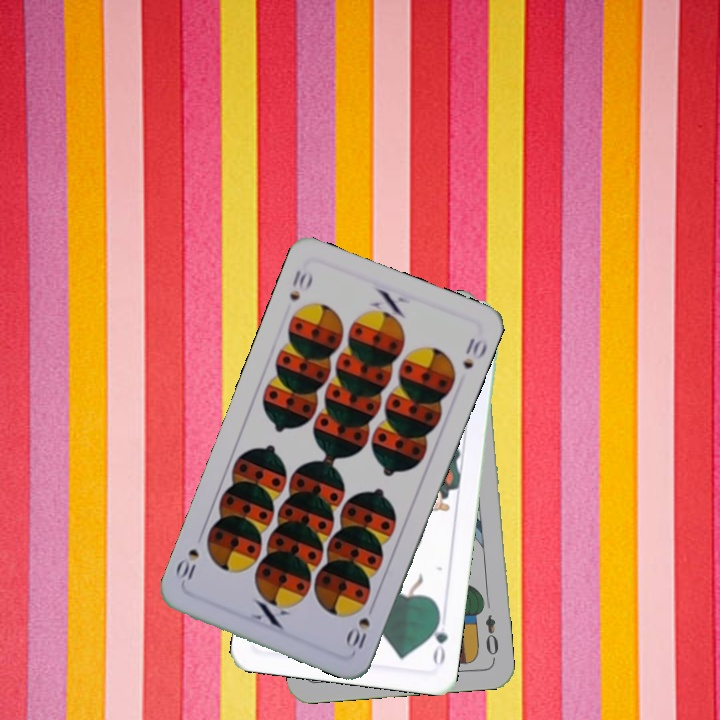EO: (481, 611, 502, 663)
GO: (426, 609, 451, 669)
S10: (343, 599, 376, 652), (285, 265, 316, 303)
